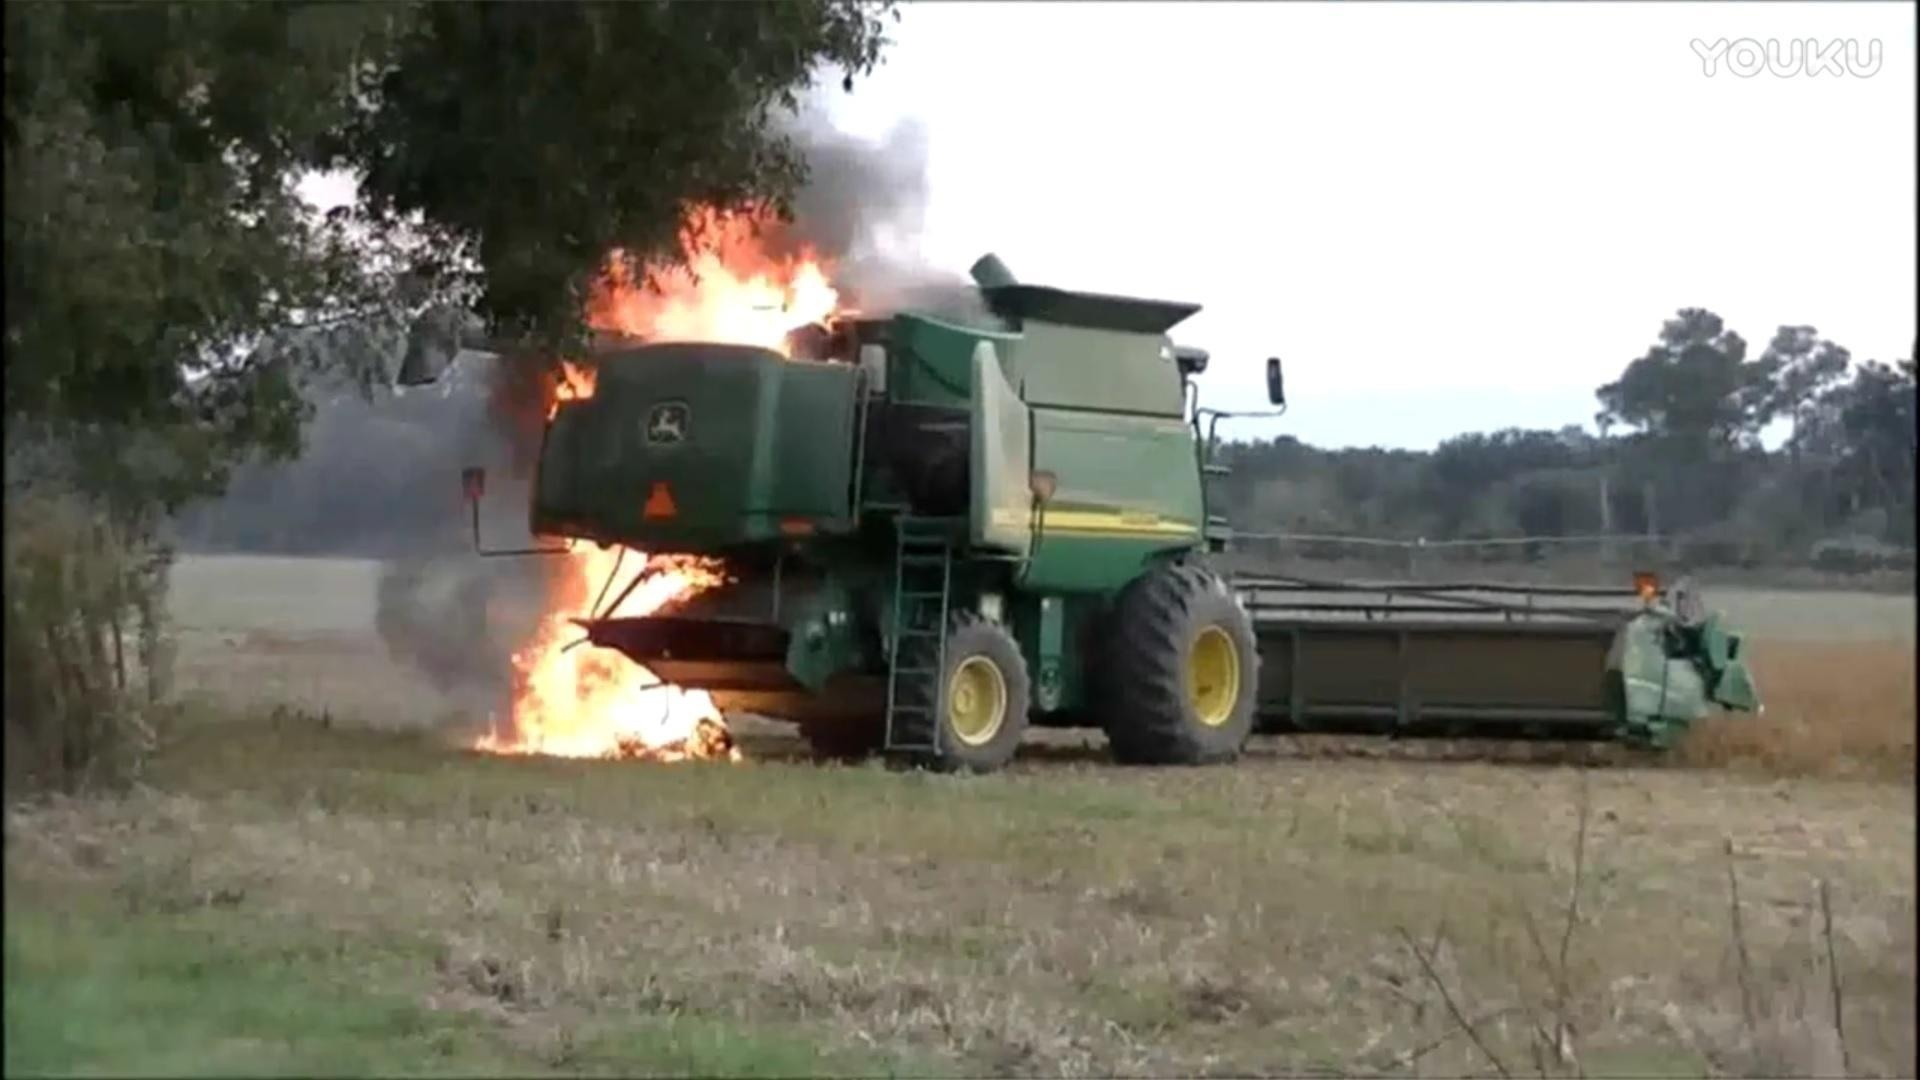fire: (493, 530, 731, 756), (583, 203, 844, 353), (545, 357, 599, 411)
